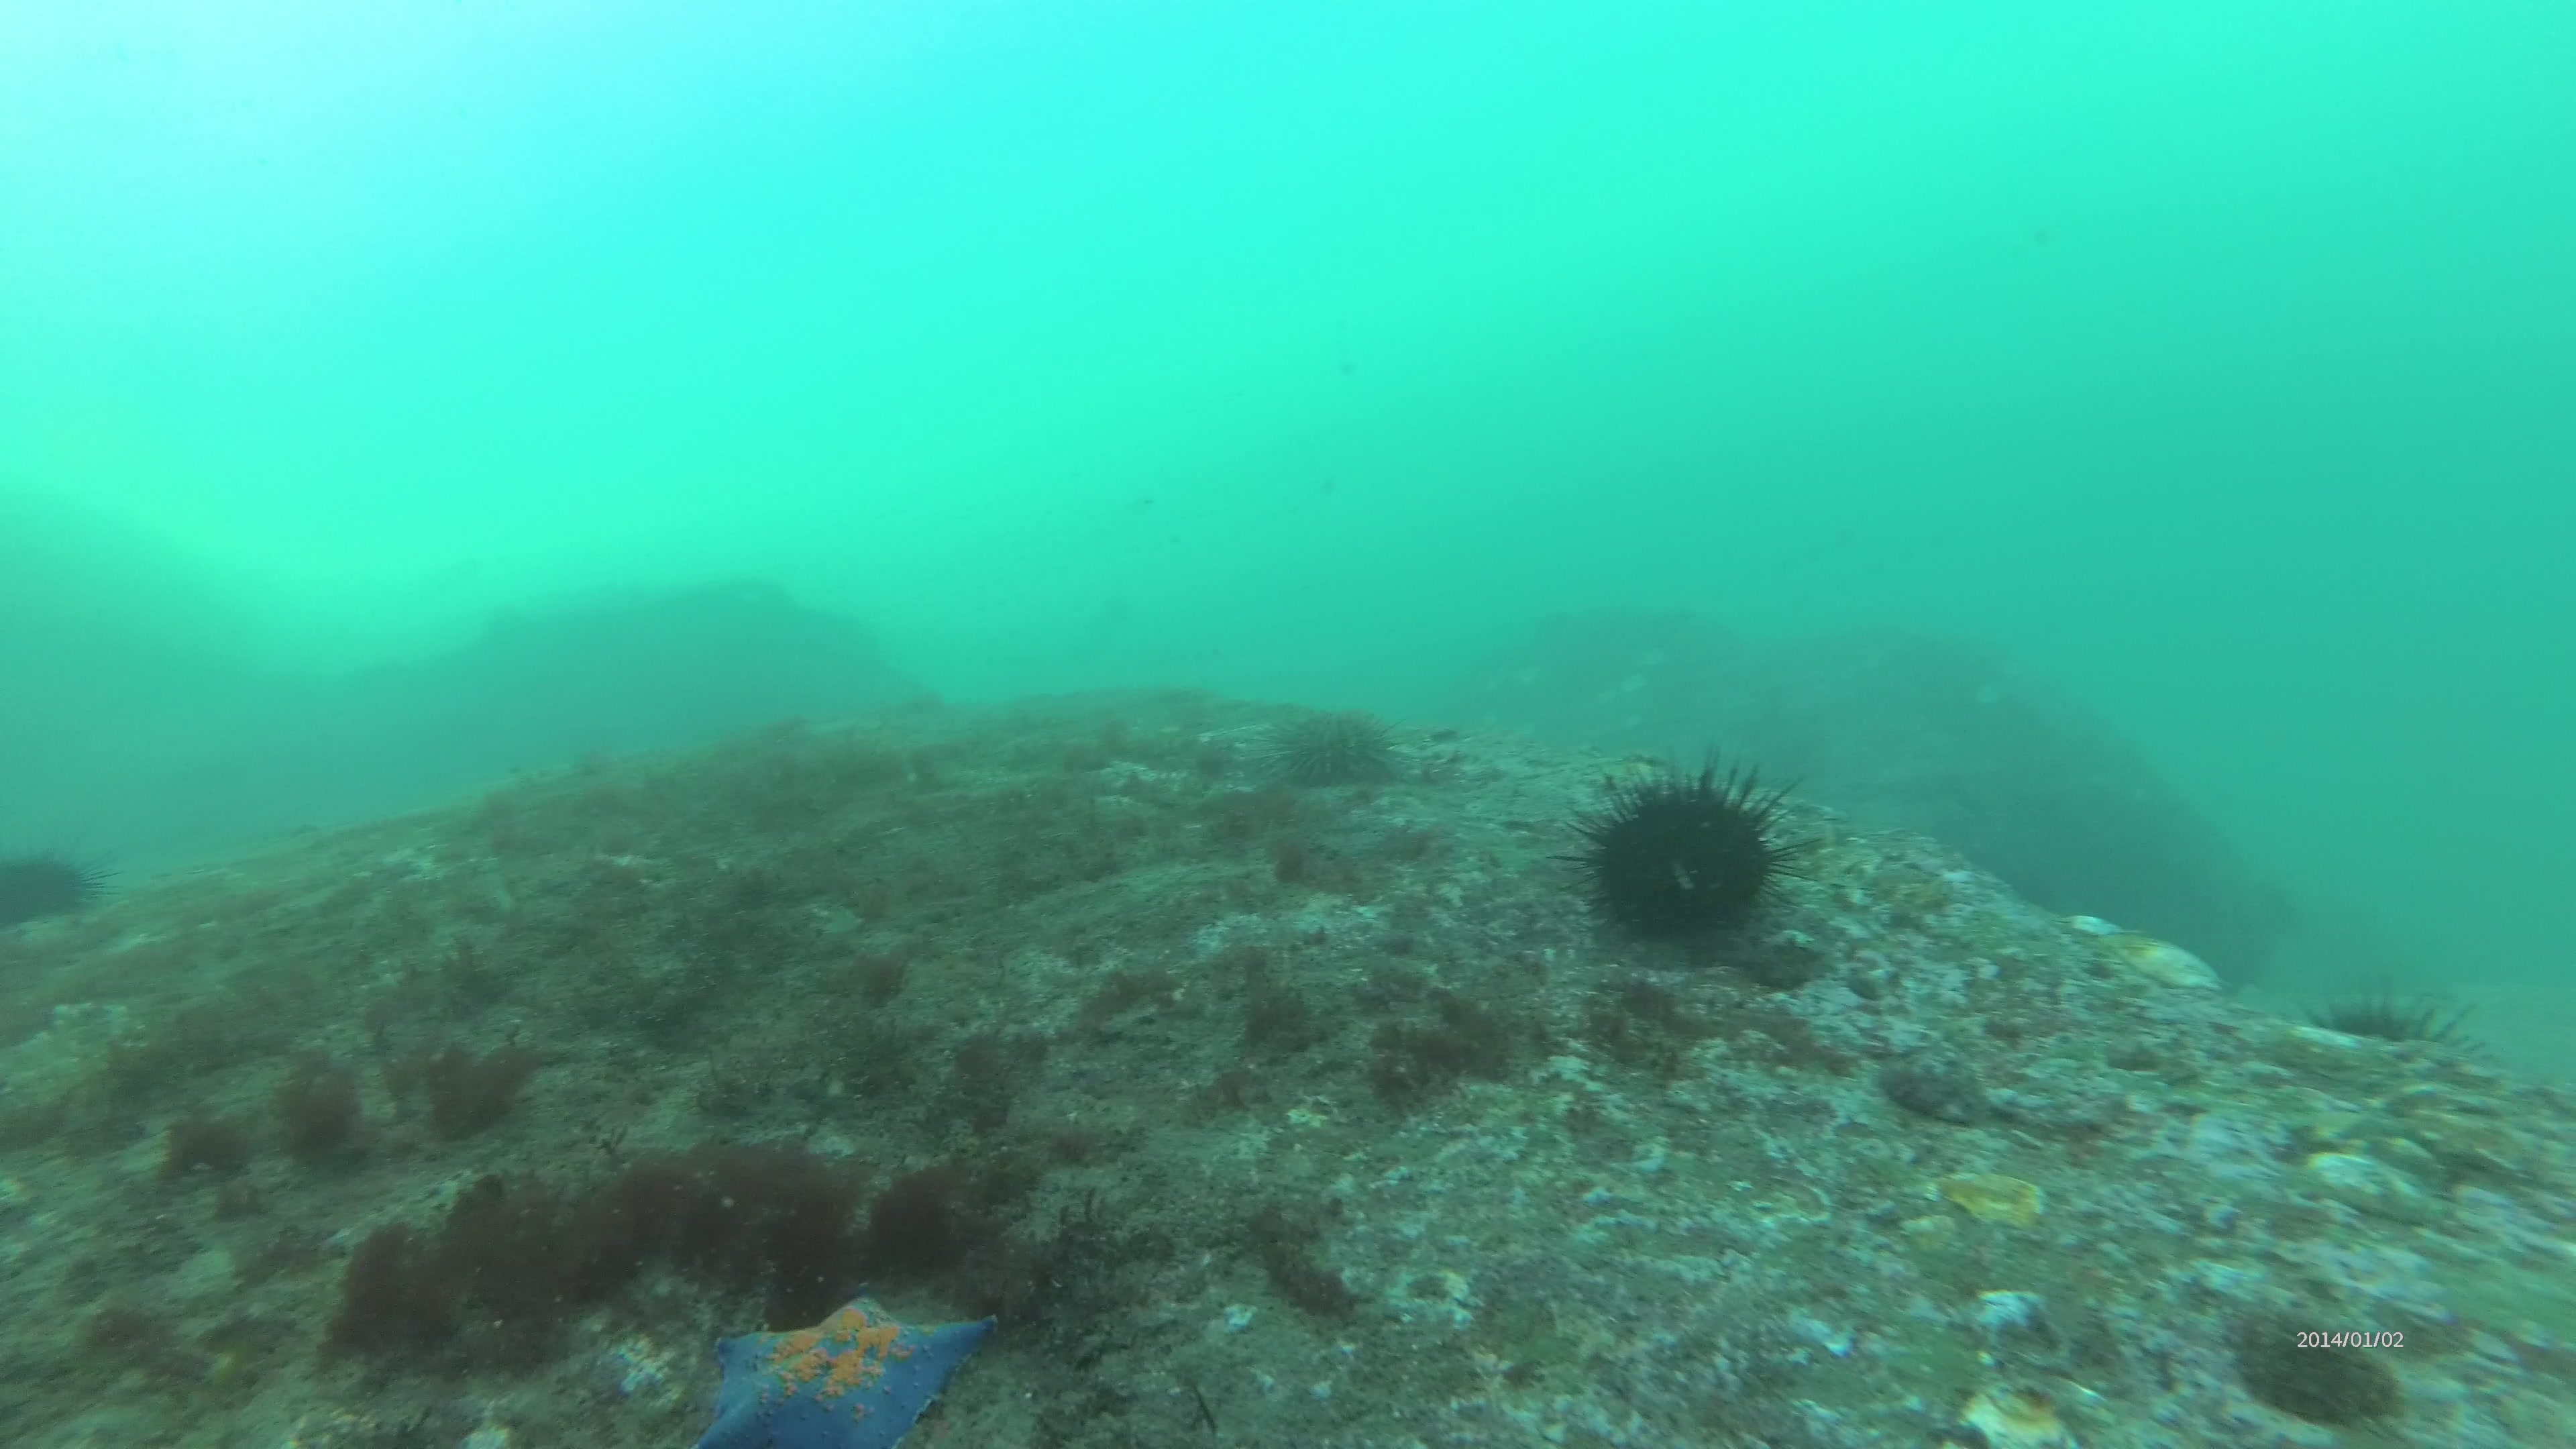echinus: (1562, 757, 1815, 961), (2309, 984, 2479, 1060), (1288, 704, 1405, 789), (4, 840, 108, 934)
starfish: (702, 1297, 987, 1449)
